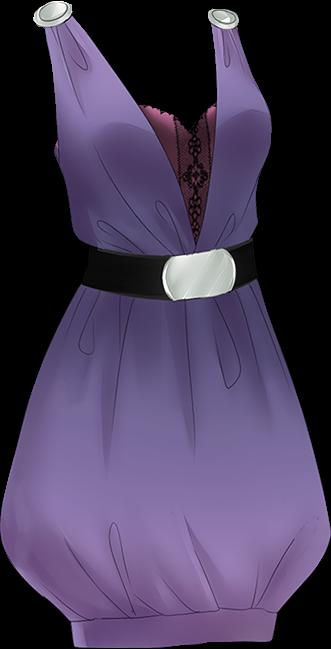Bodice: (33, 1, 271, 301)
Hemline: (75, 630, 274, 648)
Neckline: (66, 4, 220, 136), (132, 100, 221, 252), (88, 234, 254, 259)
Skirt: (1, 281, 330, 647)
Waistline: (79, 275, 259, 306), (70, 601, 275, 626)
